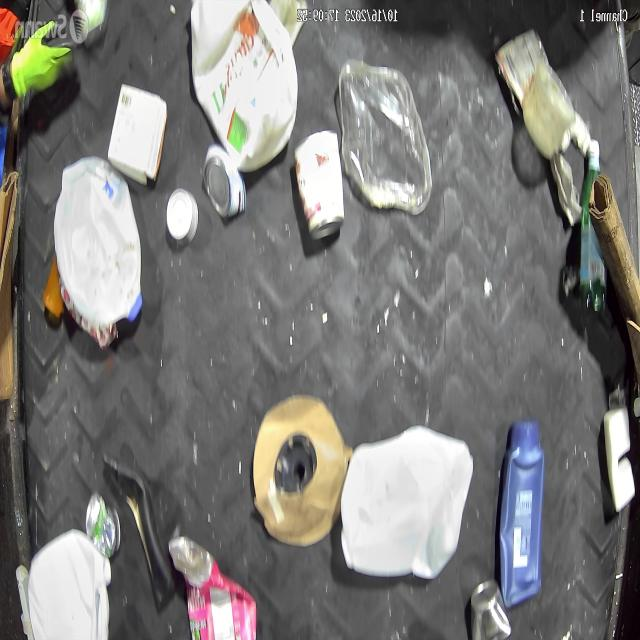can: (297, 127, 343, 245), (207, 140, 244, 214), (467, 584, 513, 640), (88, 488, 120, 568), (167, 192, 194, 242)
milk_jug: (344, 421, 474, 575), (51, 152, 146, 320), (196, 0, 296, 151), (25, 532, 107, 636)
non_white_jug: (505, 422, 545, 584)
